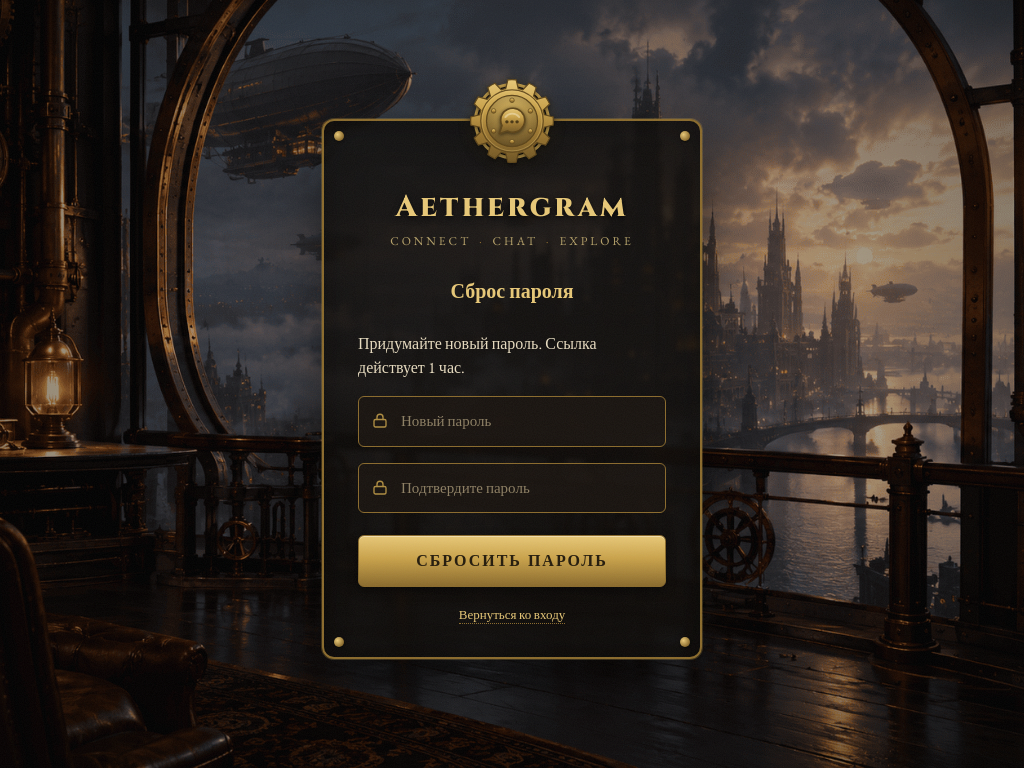
Test: ResetPasswordPage › shows the Russian mismatch message without consuming the link
In the password field labelled "Новый пароль": (512, 421) top-left (358, 396), bottom-right (666, 447), type "correct horse"
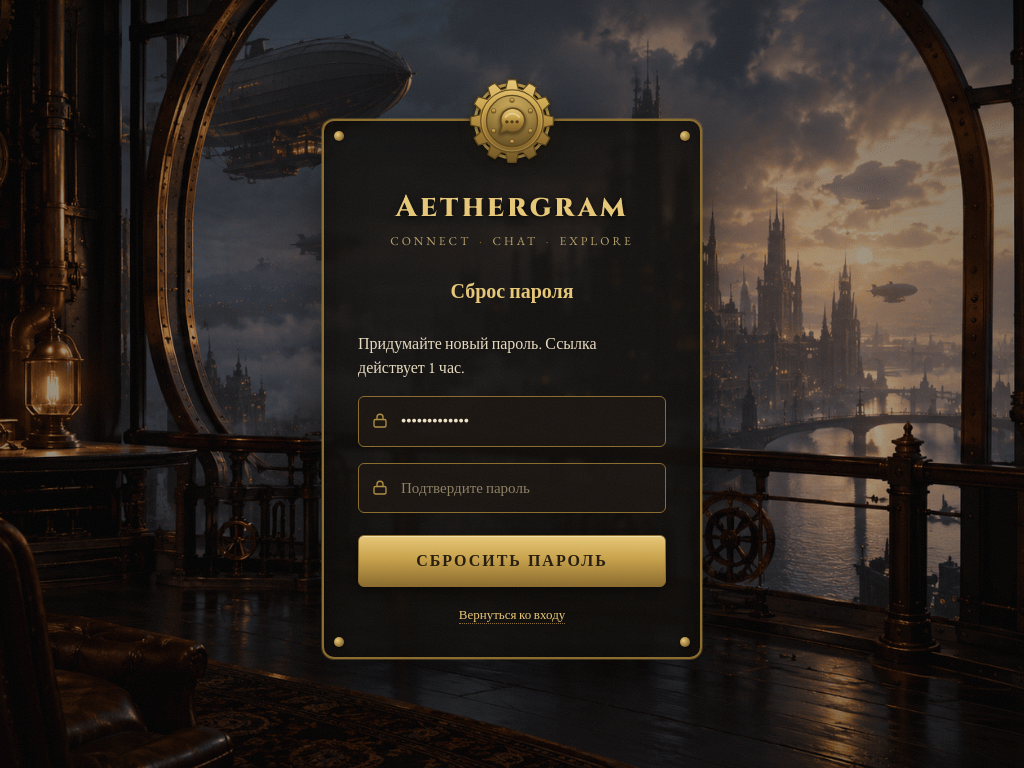
In the password field labelled "Подтвердите пароль": (512, 488) top-left (358, 463), bottom-right (666, 513), type "different horse"
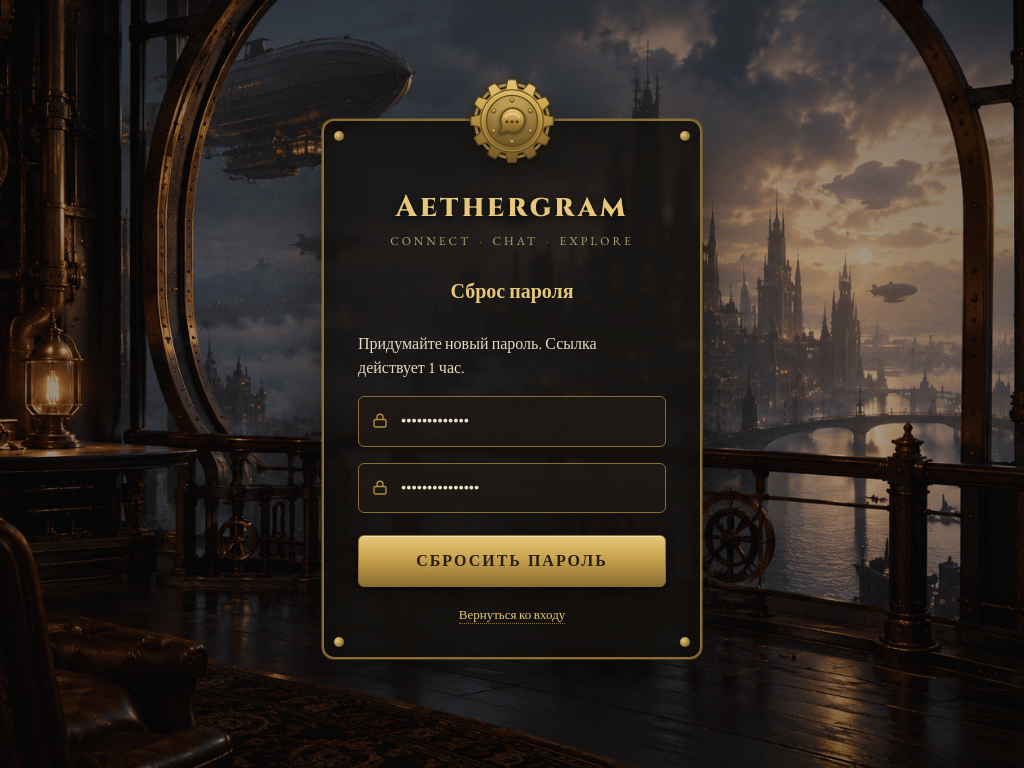
Click the button "СБРОСИТЬ ПАРОЛЬ": (512, 561) top-left (358, 535), bottom-right (666, 587)
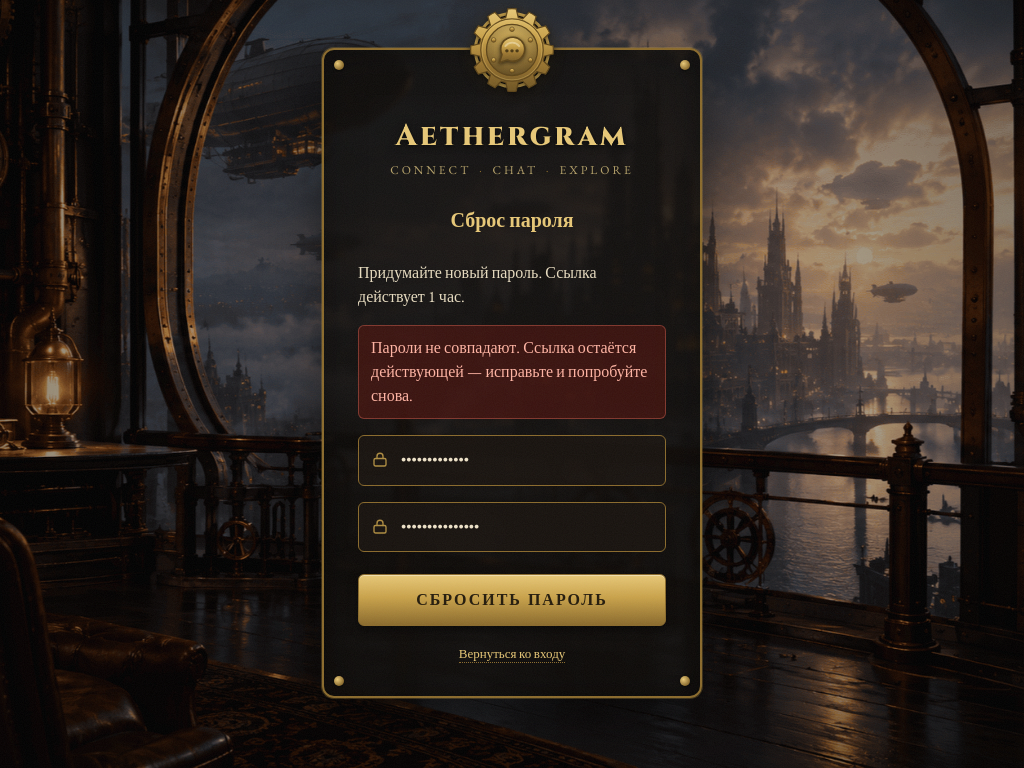
expect the message shows "Пароли не совпадают.": met, box top-left (371, 337), bottom-right (647, 406)
expect the message shows "Ссылка остаётся действующей — исправьте и попробуйте снова.": met, box top-left (371, 337), bottom-right (647, 406)
